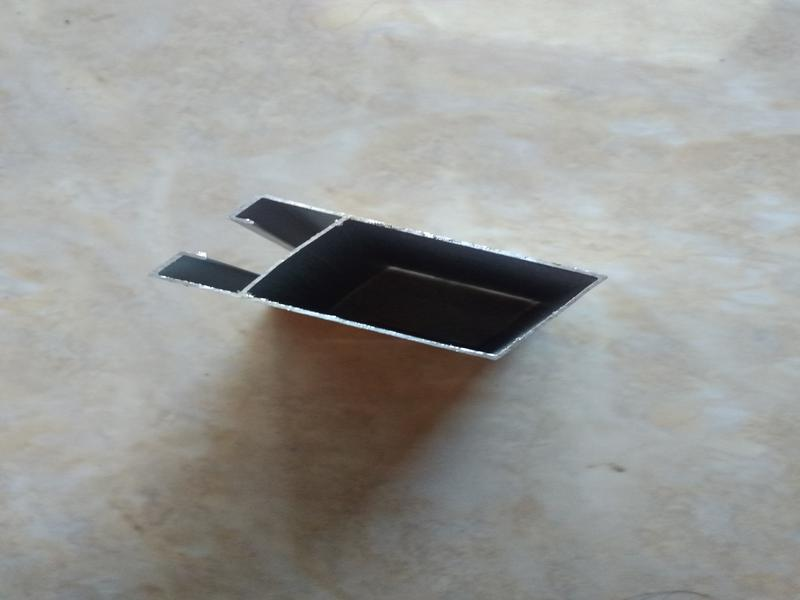Aluminium_1: (146, 156, 629, 387)
